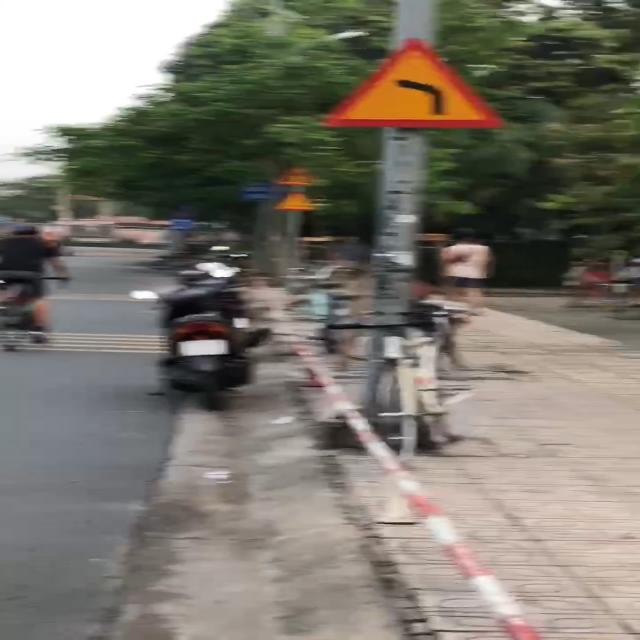Bien bao cho ngoat nguy hiem: (307, 34, 503, 130)
